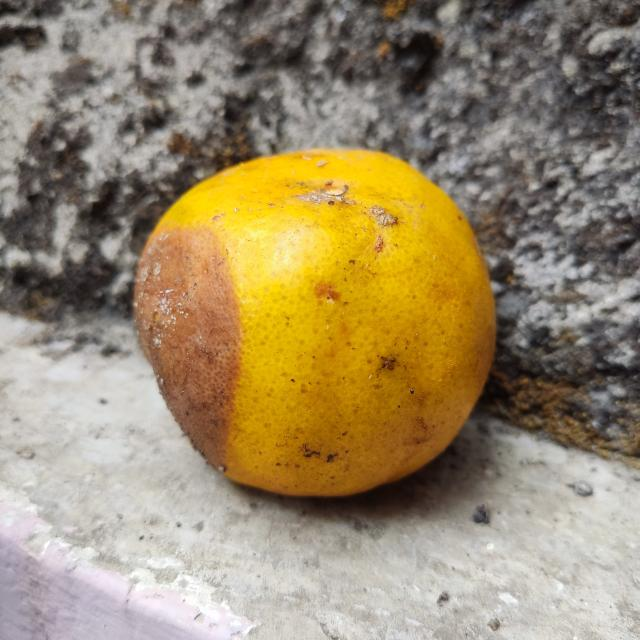orange: (132, 146, 494, 496)
